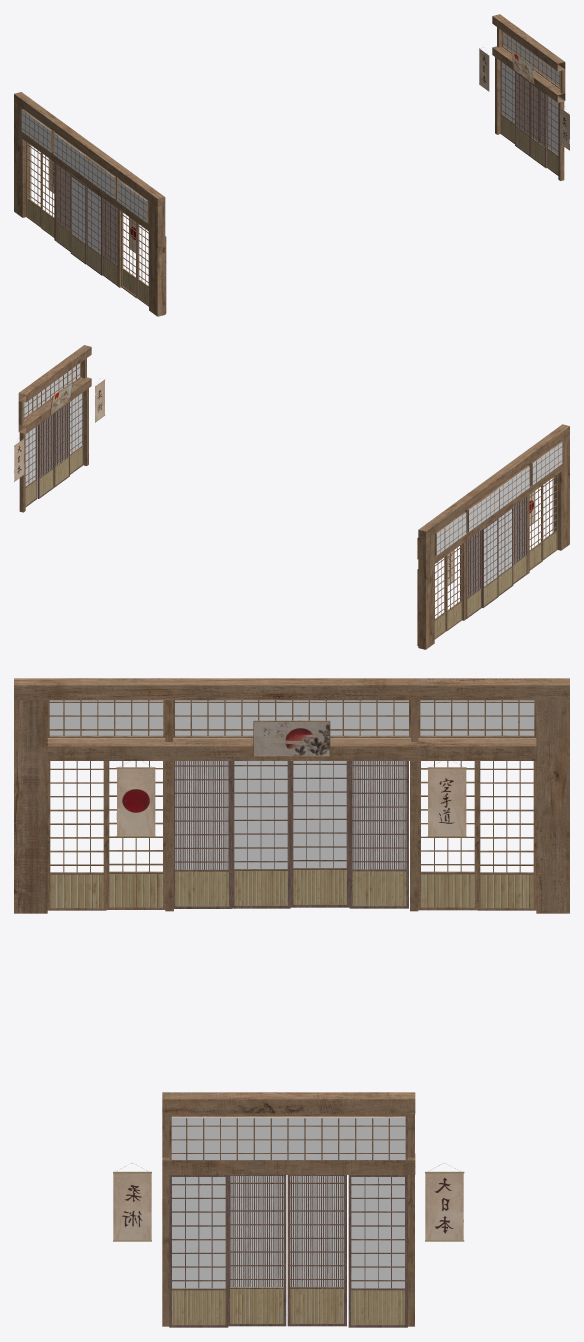
The model's file is both_doors.fbx.
The picture shows the model from 3 angles, top to bottom: view 1: azimuth 30°, elevation 25°; view 2: azimuth 150°, elevation 25°; view 3: azimuth 270°, elevation 25°; orthographic projection. The views are drawn at different scales.
Parts seen in each view (by area): view 1: base.Shape_wall_wood_0, base.Shape_wall_wood_0.002, base.Shape_window_frames_base_0, door_01.Shape_window_plancs_0, door_08.Shape_window_plancs_0, door_05.Shape_windows_glass_down_0, door_07.Shape_windows_glass_down_0, door_06.Shape_walll_down_0, door_02.Shape_windows_glass_down_0, door_03.Shape_window_frames_0, door_04.Shape_window_plancs_0, base.Shape_windows_glass_up_1_0.001 (+8 smaller); view 2: base.Shape_wall_wood_0, base.Shape_wall_wood_0.002, base.Shape_window_frames_base_0, door_01.Shape_window_plancs_0, door_06.Shape_walll_down_0, door_08.Shape_window_plancs_0, door_02.Shape_windows_glass_down_0, door_05.Shape_windows_glass_down_0, door_07.Shape_windows_glass_down_0, door_04.Shape_window_plancs_0, door_03.Shape_window_frames_0, base.Shape_windows_glass_up_1_0.001 (+9 smaller); view 3: base.Shape_wall_wood_0, base.Shape_wall_wood_0.002, door_03.Shape_window_frames_0, door_04.Shape_window_plancs_0, door_06.Shape_walll_down_0, door_05.Shape_windows_glass_down_0, door_02.Shape_windows_glass_down_0, door_08.Shape_window_plancs_0, door_01.Shape_window_plancs_0, door_07.Shape_windows_glass_down_0, base.Shape_window_frames_base_0, base.Shape_windows_glass_up_2_0.001 (+23 smaller).
Part boxes in pixels (x1=…): base.Shape_wall_wood_0: x1=14, y1=92, x2=165, y2=316; base.Shape_wall_wood_0.002: x1=492, y1=14, x2=565, y2=180; base.Shape_window_frames_base_0: x1=22, y1=108, x2=166, y2=313; door_01.Shape_window_plancs_0: x1=70, y1=174, x2=86, y2=264; door_08.Shape_window_plancs_0: x1=86, y1=186, x2=102, y2=275; door_05.Shape_windows_glass_down_0: x1=530, y1=83, x2=547, y2=168; door_07.Shape_windows_glass_down_0: x1=102, y1=198, x2=117, y2=285; door_06.Shape_walll_down_0: x1=515, y1=72, x2=530, y2=156; door_02.Shape_windows_glass_down_0: x1=56, y1=164, x2=70, y2=251; door_03.Shape_window_frames_0: x1=500, y1=61, x2=514, y2=143; door_04.Shape_window_plancs_0: x1=547, y1=95, x2=562, y2=175; base.Shape_windows_glass_up_1_0.001: x1=84, y1=155, x2=114, y2=198; base.Shape_wall_wood_0: x1=418, y1=424, x2=569, y2=649; base.Shape_wall_wood_0.002: x1=18, y1=345, x2=91, y2=512; base.Shape_window_frames_base_0: x1=417, y1=440, x2=561, y2=645; door_01.Shape_window_plancs_0: x1=482, y1=517, x2=498, y2=607; door_06.Shape_walll_down_0: x1=37, y1=414, x2=54, y2=498; door_08.Shape_window_plancs_0: x1=498, y1=507, x2=513, y2=595; door_02.Shape_windows_glass_down_0: x1=466, y1=530, x2=481, y2=618; door_05.Shape_windows_glass_down_0: x1=54, y1=402, x2=69, y2=487; door_07.Shape_windows_glass_down_0: x1=513, y1=497, x2=527, y2=584; door_04.Shape_window_plancs_0: x1=70, y1=392, x2=83, y2=474; door_03.Shape_window_frames_0: x1=20, y1=426, x2=37, y2=506; base.Shape_windows_glass_up_1_0.001: x1=499, y1=466, x2=529, y2=509; base.Shape_wall_wood_0: x1=14, y1=678, x2=569, y2=913; base.Shape_wall_wood_0.002: x1=162, y1=1092, x2=415, y2=1326; door_03.Shape_window_frames_0: x1=348, y1=1175, x2=407, y2=1327; door_04.Shape_window_plancs_0: x1=169, y1=1175, x2=228, y2=1327; door_06.Shape_walll_down_0: x1=287, y1=1175, x2=346, y2=1326; door_05.Shape_windows_glass_down_0: x1=228, y1=1175, x2=286, y2=1326; door_02.Shape_windows_glass_down_0: x1=349, y1=761, x2=408, y2=908; door_08.Shape_window_plancs_0: x1=231, y1=761, x2=290, y2=908; door_01.Shape_window_plancs_0: x1=290, y1=761, x2=349, y2=907; door_07.Shape_windows_glass_down_0: x1=174, y1=761, x2=231, y2=908; base.Shape_window_frames_base_0: x1=47, y1=700, x2=569, y2=911; base.Shape_windows_glass_up_2_0.001: x1=288, y1=1117, x2=405, y2=1159.
Size of the model in its own units: 1435 by 361 by 795.
